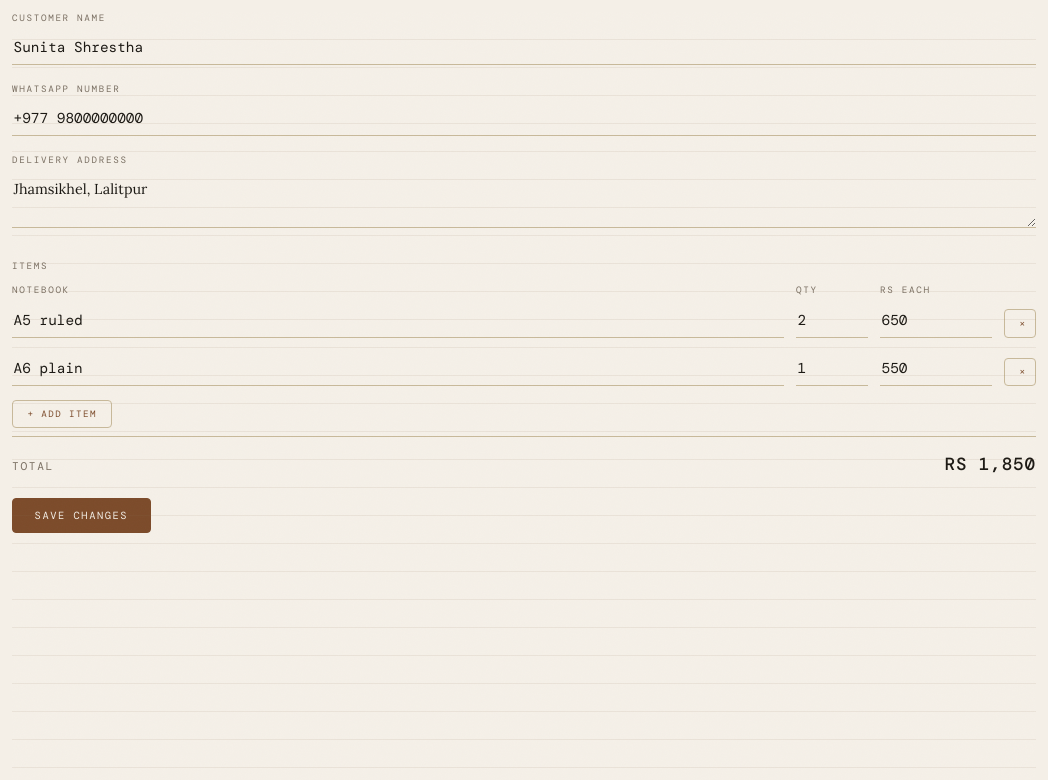
Scenario: OrderForm in edit mode › still lets staff add and remove item rows
Click the button named "remove item 1": coordinates (1020, 324) top-left (1004, 309), bottom-right (1036, 338)
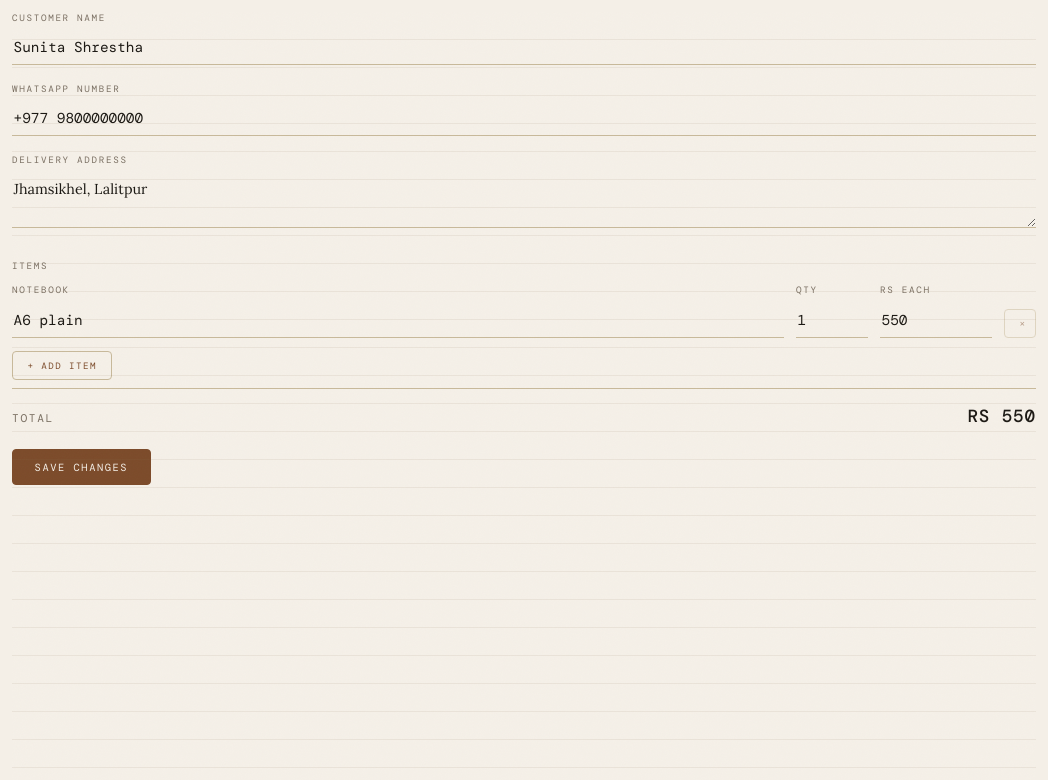
Check: the field with placeholder "A5 ruled, kraft cover" below "Notebook" holds "A6 plain", box top-left (12, 303), bottom-right (784, 338)
Check: the number of fields with placeholder "A5 ruled, kraft cover" is 1, box top-left (12, 303), bottom-right (784, 338)
